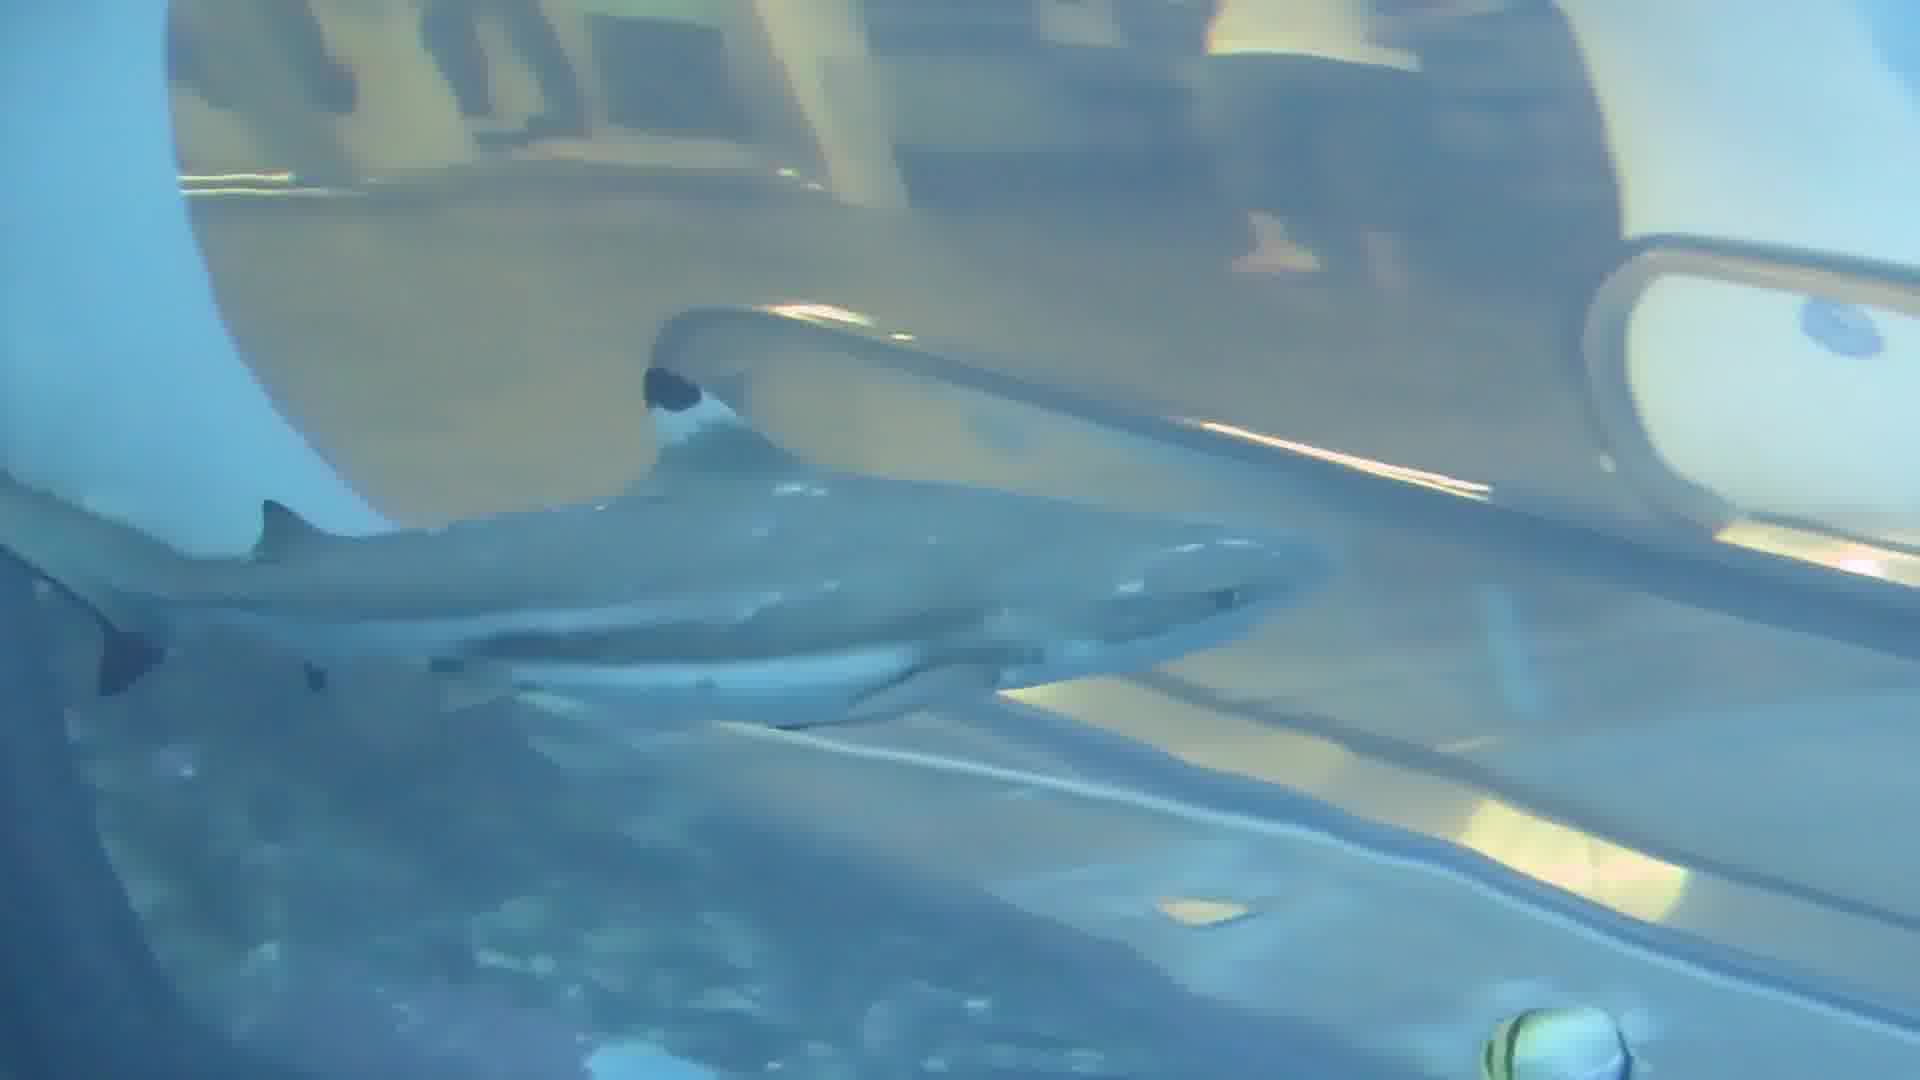Carcharhinus melanopterus: (1, 298, 1378, 760)
